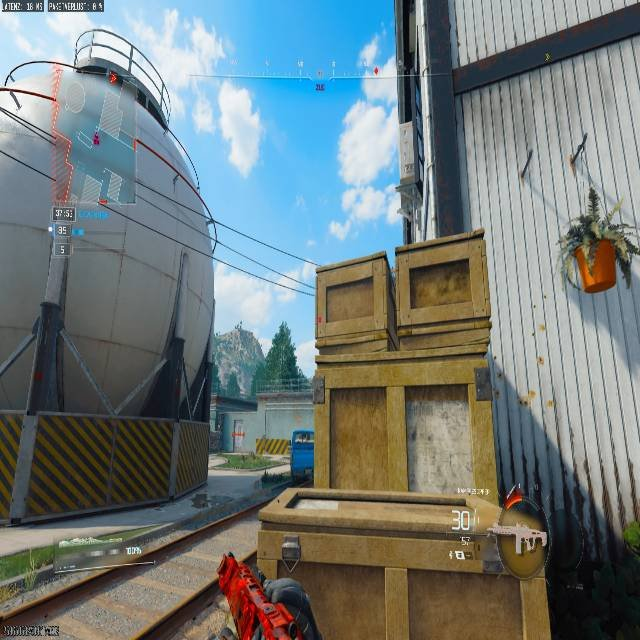player: (557, 191, 639, 293), (212, 323, 260, 399)
